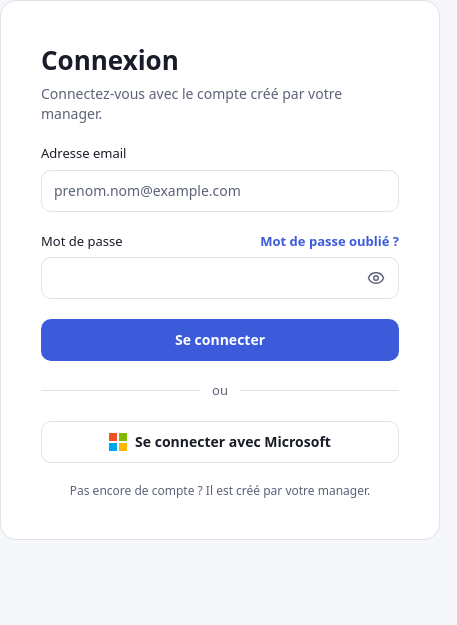
Test: LoginPage › shows the server error on bad credentials
The width and height of the screenshot is (457, 625).
Type "employee@trinity.io" into the field labelled "Adresse email" at (220, 190), box x1=41 y1=170 x2=399 y2=212
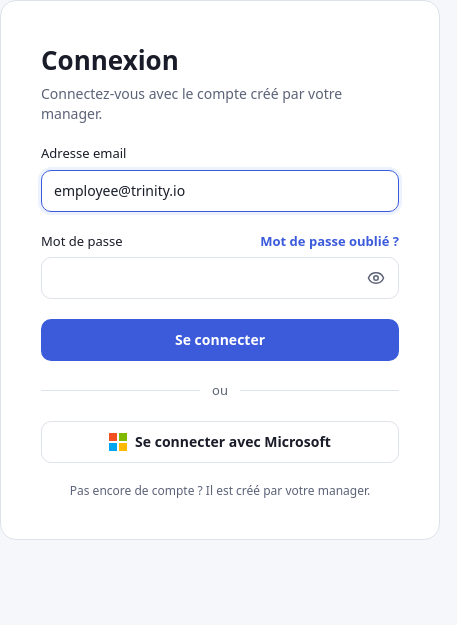
Type "wrong" into the password field labelled "Mot de passe" at (220, 278), box x1=41 y1=257 x2=399 y2=299
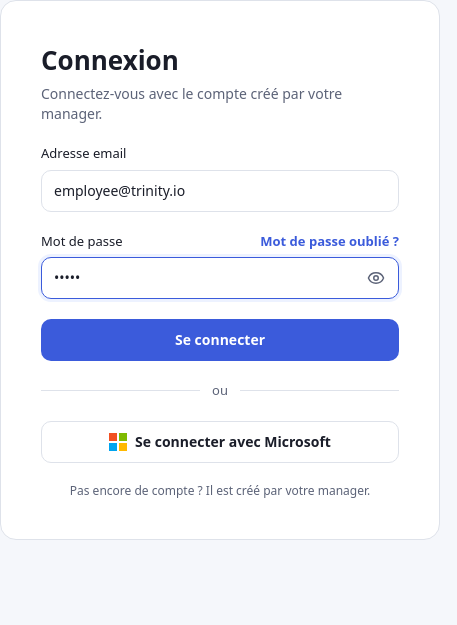
Click the button "Se connecter" at (220, 340), box x1=41 y1=319 x2=399 y2=361
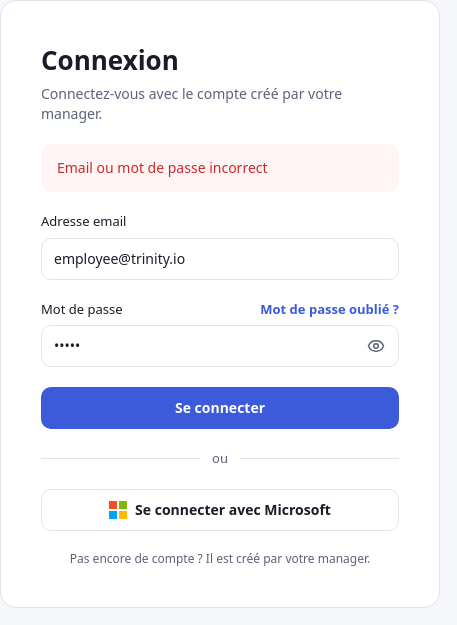
Now the message reads "Email ou mot de passe incorrect", box x1=57 y1=158 x2=268 y2=177
